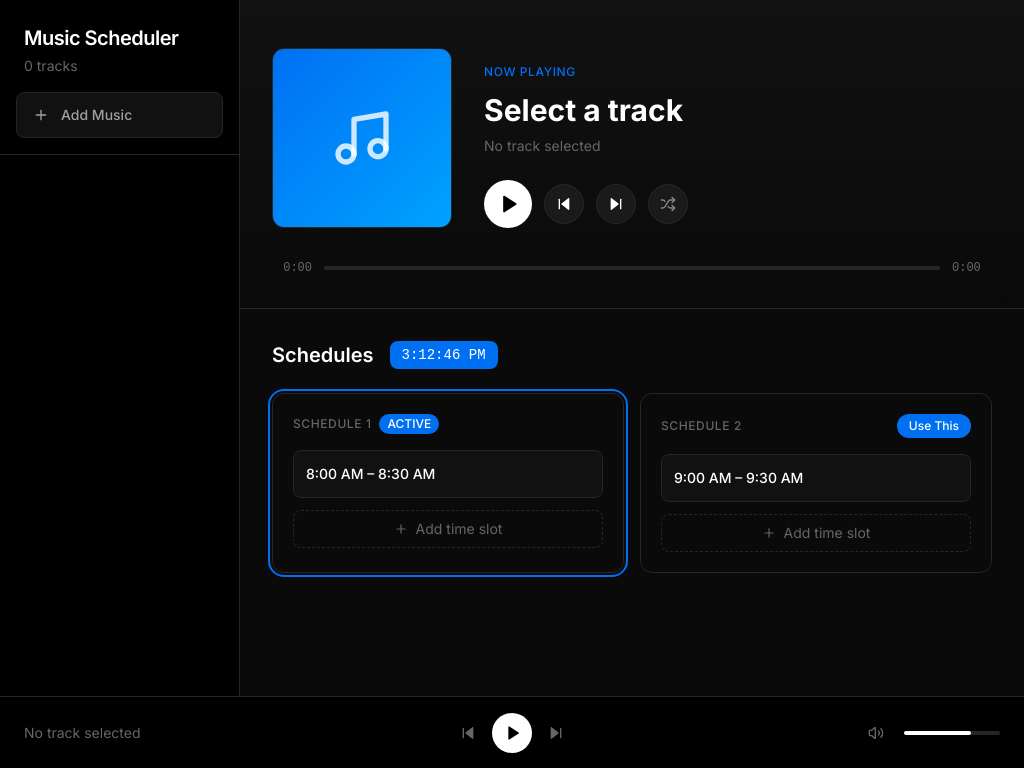
Test case: MusicScheduler Component › Add Music Panel › shows Choose Files upload button
Step 1. Click the button "Add Music" → point(120, 115), box top-left (16, 92), bottom-right (223, 138)
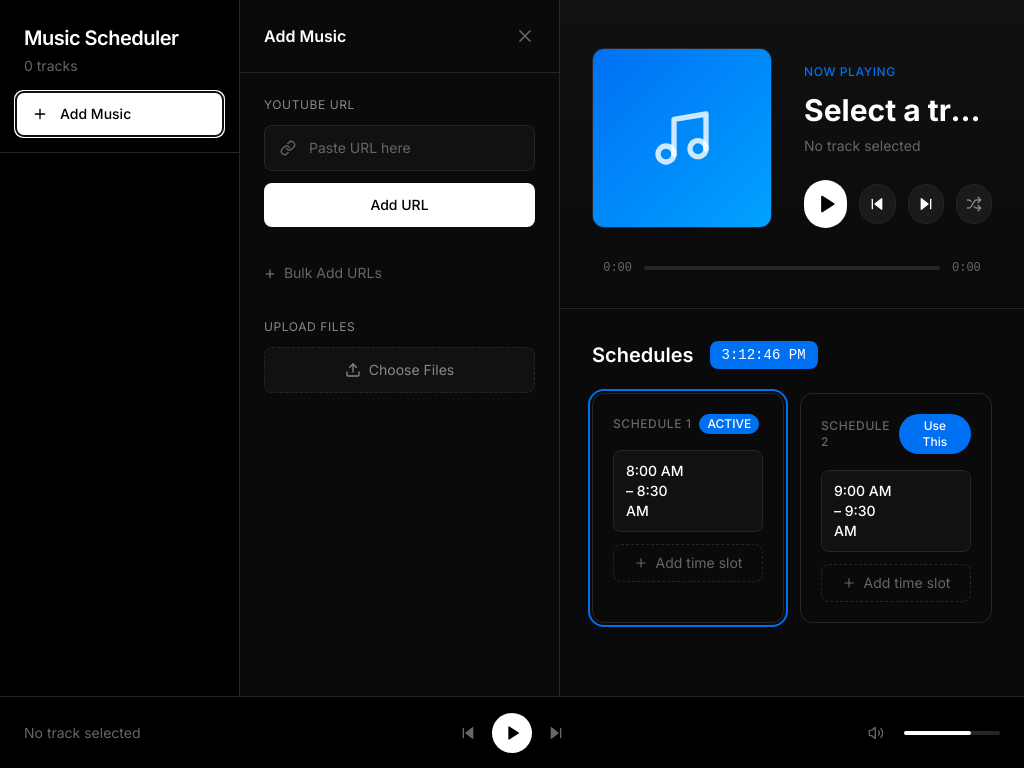
expect the button "Choose Files" is shown: met, box top-left (264, 347), bottom-right (535, 393)
